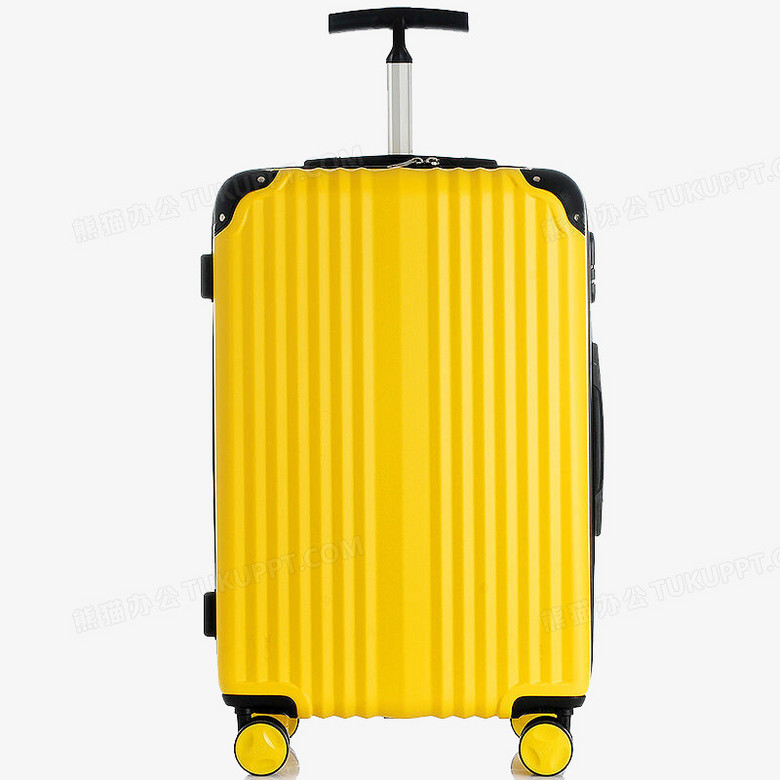box: (212, 168, 588, 718)
lock: (588, 230, 596, 305)
wheel: (233, 718, 290, 776), (517, 720, 574, 777)
